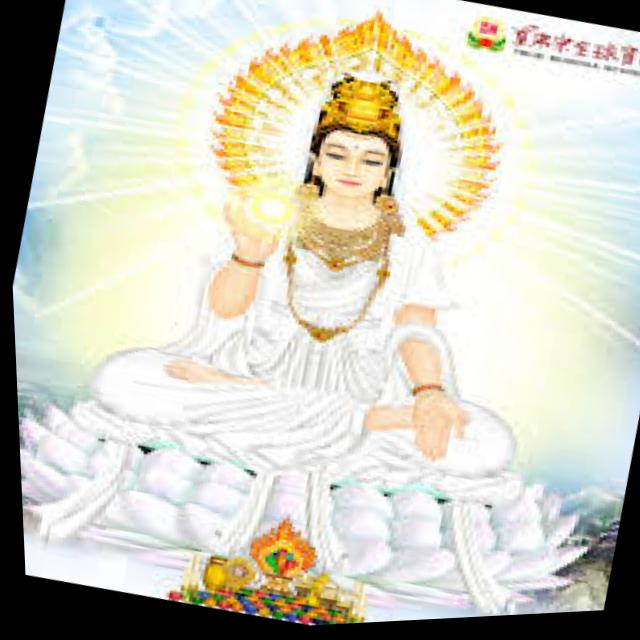Guan Yin: (149, 17, 526, 502)
